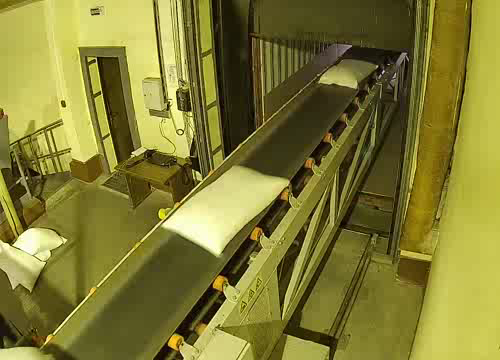bag: (153, 157, 295, 259), (316, 56, 381, 92), (0, 342, 63, 360)
